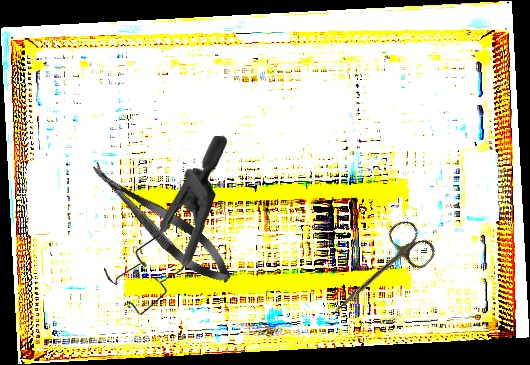Iris Scissors: (320, 215, 440, 332)
Micro Scissor: (82, 152, 240, 294)
Speculum: (101, 135, 231, 316)
